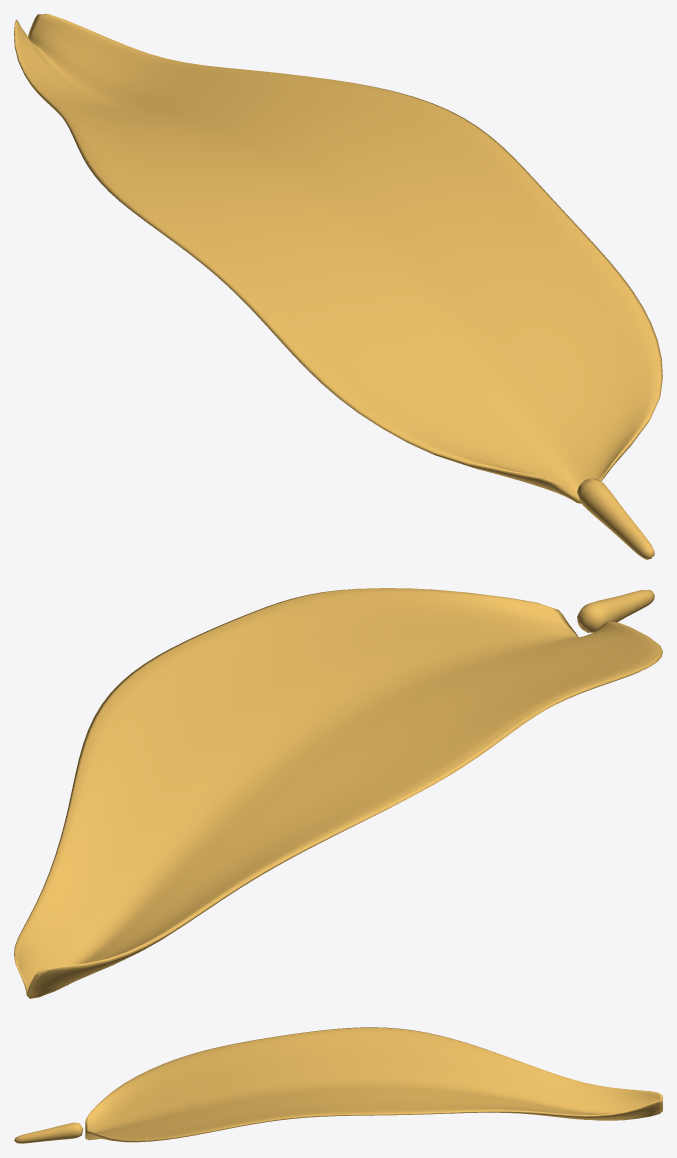
Rendered from SM_Forest_AutumnLeafBridge.fbx.
The picture shows the model from 3 angles, top to bottom: view 1: azimuth 30°, elevation 25°; view 2: azimuth 150°, elevation 25°; view 3: azimuth 270°, elevation 25°; orthographic projection. The views are drawn at different scales.
Parts seen in each view (by area): view 1: SM_Forest_AutumnLeafBridge; view 2: SM_Forest_AutumnLeafBridge; view 3: SM_Forest_AutumnLeafBridge.
Part boxes in pixels (bbox=[...]): SM_Forest_AutumnLeafBridge: bbox=[14, 14, 662, 559]; SM_Forest_AutumnLeafBridge: bbox=[14, 588, 662, 998]; SM_Forest_AutumnLeafBridge: bbox=[14, 1027, 662, 1143].
Bounding box in the file's own units: 186 × 71.99 × 582.
